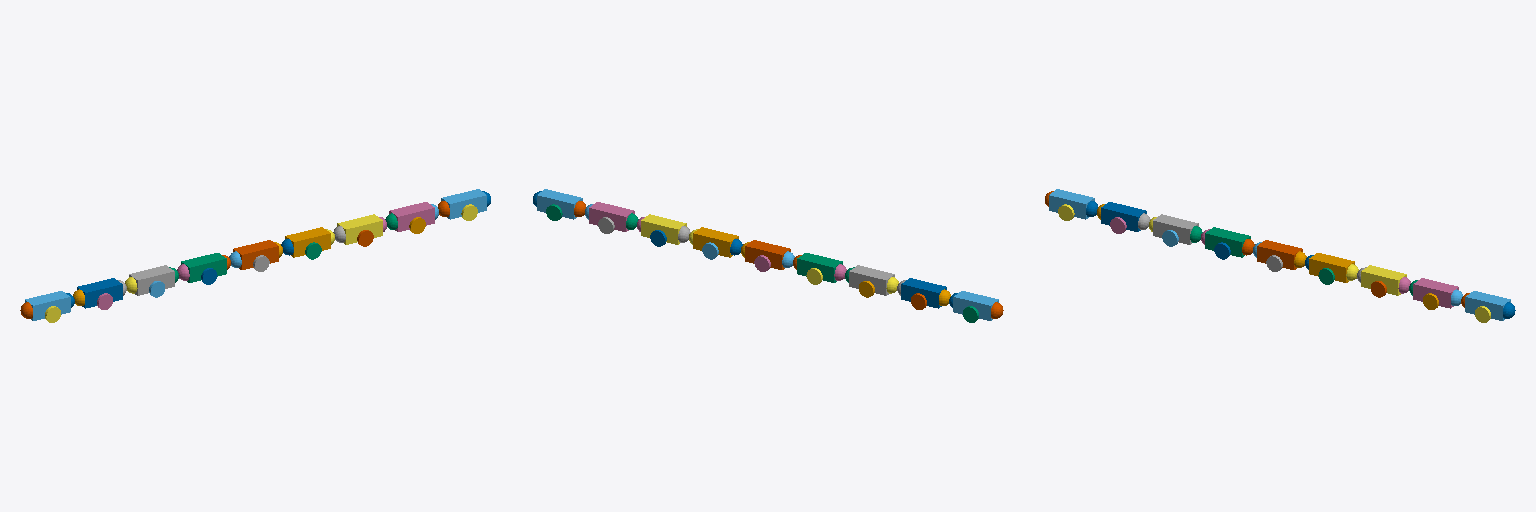
--- Render facts (derived) ---
The picture shows the robot from 3 angles, left to right: view 1: azimuth 30°, elevation 25°; view 2: azimuth 150°, elevation 25°; view 3: azimuth 330°, elevation 25°; orthographic projection.
Robot: snake — 46 links, 45 joints (8 revolute, 18 continuous, 19 fixed); root link base_link; default pose: all joints at 0.
Visible links, largest first — view 1: car_7, car_8, car_6, car_9, car_2, car_4, car_5, car_1, car_3; view 2: car_7, car_8, car_6, car_9, car_2, car_4, car_5, car_1, car_3; view 3: car_3, car_2, car_1, car_4, car_8, car_5, car_6, car_7, car_9.
Link boxes in pixels (x1,y1,x2,y2): car_7: (129,265,174,295); car_8: (77,278,122,308); car_6: (181,253,226,282); car_9: (25,291,70,320); car_2: (389,202,434,231); car_4: (285,227,330,257); car_5: (233,240,278,269); car_1: (441,189,486,219); car_3: (337,214,382,244); car_7: (849,265,894,295); car_8: (901,278,946,308); car_6: (797,253,842,282); car_9: (953,291,998,320); car_2: (589,202,634,231); car_4: (693,227,738,257); car_5: (745,240,790,269); car_1: (537,189,582,219); car_3: (641,214,686,244); car_3: (1361,265,1406,295); car_2: (1413,278,1458,308); car_1: (1465,291,1510,320); car_4: (1309,253,1354,282); car_8: (1101,202,1146,231); car_5: (1257,240,1302,269); car_6: (1205,227,1250,257); car_7: (1153,214,1198,244); car_9: (1049,189,1094,219).
Size in the robot's own frame: 3.15 by 0.144 by 0.13 metres.
Geometry: primitives only (box / cylinder / sphere), no mesh files.

URDF robot description (snake):
<?xml version="1.0" ?>
<!-- =================================================================================== -->
<!-- |    This document was autogenerated by xacro from planar_snake.xacro             | -->
<!-- |    EDITING THIS FILE BY HAND IS NOT RECOMMENDED                                 | -->
<!-- =================================================================================== -->
<robot name="snake" xmlns:xacro="http://www.ros.org/wiki/xacro">
  <gazebo>
    <plugin filename="libgazebo_ros_control.so" name="gazebo_ros_control">
      <robotNamespace>/planar_snake</robotNamespace>
    </plugin>
  </gazebo>
  <!-- Used for fixing robot to Gazebo 'base_link' -->
  <link name="base_link"/>
  <joint name="fixed" type="fixed">
    <parent link="base_link"/>
    <child link="car_1"/>
  </joint>
  <link name="car_1">
    <collision>
      <origin rpy="0 0 0" xyz="-0.175 0 0.08"/>
      <geometry>
        <box size="0.25 0.1 0.1"/>
      </geometry>
    </collision>
    <visual>
      <origin rpy="0 0 0" xyz="-0.175 0 0.08"/>
      <geometry>
        <box size="0.25 0.1 0.1"/>
      </geometry>
    </visual>
    <inertial>
      <origin rpy="0 0 0" xyz="-0.175 0 0.08"/>
      <mass value="1"/>
      <inertia ixx="1.0" ixy="0.0" ixz="0.0" iyy="1.0" iyz="0.0" izz="1.0"/>
    </inertial>
  </link>
  <link name="wheel_left_1">
    <collision>
      <origin rpy="0 1.57079632679 1.57079632679" xyz="0 0 0"/>
      <geometry>
        <cylinder length="0.02" radius="0.05"/>
      </geometry>
    </collision>
    <visual>
      <origin rpy="0 1.57079632679 1.57079632679" xyz="0 0 0"/>
      <geometry>
        <cylinder length="0.02" radius="0.05"/>
      </geometry>
    </visual>
    <inertial>
      <origin rpy="0 1.57079632679 1.57079632679" xyz="0 0 0"/>
      <mass value="1"/>
      <inertia ixx="1.0" ixy="0.0" ixz="0.0" iyy="1.0" iyz="0.0" izz="1.0"/>
    </inertial>
  </link>
  <gazebo reference="wheel_left_1">
    <mu1>1.5</mu1>
    <mu2>1.5</mu2>
  </gazebo>
  <link name="wheel_right_1">
    <collision>
      <origin rpy="0 1.57079632679 1.57079632679" xyz="0 0 0"/>
      <geometry>
        <cylinder length="0.02" radius="0.05"/>
      </geometry>
    </collision>
    <visual>
      <origin rpy="0 1.57079632679 1.57079632679" xyz="0 0 0"/>
      <geometry>
        <cylinder length="0.02" radius="0.05"/>
      </geometry>
    </visual>
    <inertial>
      <origin rpy="0 1.57079632679 1.57079632679" xyz="0 0 0"/>
      <mass value="1"/>
      <inertia ixx="1.0" ixy="0.0" ixz="0.0" iyy="1.0" iyz="0.0" izz="1.0"/>
    </inertial>
  </link>
  <gazebo reference="wheel_right_1">
    <mu1>1.5</mu1>
    <mu2>1.5</mu2>
  </gazebo>
  <link name="caster_front_1">
    <visual>
      <origin rpy="0 0 0" xyz="0 0 0"/>
      <geometry>
        <sphere radius="0.05"/>
      </geometry>
    </visual>
    <inertial>
      <origin rpy="0 0 0" xyz="0 0 0"/>
      <mass value="1"/>
      <inertia ixx="1.0" ixy="0.0" ixz="0.0" iyy="1.0" iyz="0.0" izz="1.0"/>
    </inertial>
  </link>
  <link name="caster_back_1">
    <visual>
      <origin rpy="0 0 0" xyz="0 0 0"/>
      <geometry>
        <sphere radius="0.05"/>
      </geometry>
    </visual>
    <inertial>
      <origin rpy="0 0 0" xyz="0 0 0"/>
      <mass value="1"/>
      <inertia ixx="1.0" ixy="0.0" ixz="0.0" iyy="1.0" iyz="0.0" izz="1.0"/>
    </inertial>
  </link>
  <joint name="leftJoint_1" type="continuous">
    <parent link="car_1"/>
    <child link="wheel_left_1"/>
    <origin rpy="0 0 0" xyz="-0.175 0.062 0.05"/>
    <axis xyz="0 1 0"/>
  </joint>
  <joint name="rightJoint_1" type="continuous">
    <parent link="car_1"/>
    <child link="wheel_right_1"/>
    <origin rpy="0 0 0" xyz="-0.175 -0.062 0.05"/>
    <axis xyz="0 1 0"/>
  </joint>
  <joint name="frontJoint_1" type="fixed">
    <parent link="car_1"/>
    <child link="caster_front_1"/>
    <origin rpy="0 0 0" xyz="-0.05 0 0.08"/>
  </joint>
  <joint name="backJoint_1" type="fixed">
    <parent link="car_1"/>
    <child link="caster_back_1"/>
    <origin rpy="0 0 0" xyz="-0.3 0 0.08"/>
  </joint>
  <link name="car_2">
    <collision>
      <origin rpy="0 0 0" xyz="-0.175 0 0.08"/>
      <geometry>
        <box size="0.25 0.1 0.1"/>
      </geometry>
    </collision>
    <visual>
      <origin rpy="0 0 0" xyz="-0.175 0 0.08"/>
      <geometry>
        <box size="0.25 0.1 0.1"/>
      </geometry>
    </visual>
    <inertial>
      <origin rpy="0 0 0" xyz="-0.175 0 0.08"/>
      <mass value="1"/>
      <inertia ixx="1.0" ixy="0.0" ixz="0.0" iyy="1.0" iyz="0.0" izz="1.0"/>
    </inertial>
  </link>
  <link name="wheel_left_2">
    <collision>
      <origin rpy="0 1.57079632679 1.57079632679" xyz="0 0 0"/>
      <geometry>
        <cylinder length="0.02" radius="0.05"/>
      </geometry>
    </collision>
    <visual>
      <origin rpy="0 1.57079632679 1.57079632679" xyz="0 0 0"/>
      <geometry>
        <cylinder length="0.02" radius="0.05"/>
      </geometry>
    </visual>
    <inertial>
      <origin rpy="0 1.57079632679 1.57079632679" xyz="0 0 0"/>
      <mass value="1"/>
      <inertia ixx="1.0" ixy="0.0" ixz="0.0" iyy="1.0" iyz="0.0" izz="1.0"/>
    </inertial>
  </link>
  <gazebo reference="wheel_left_2">
    <mu1>1.5</mu1>
    <mu2>1.5</mu2>
  </gazebo>
  <link name="wheel_right_2">
    <collision>
      <origin rpy="0 1.57079632679 1.57079632679" xyz="0 0 0"/>
      <geometry>
        <cylinder length="0.02" radius="0.05"/>
      </geometry>
    </collision>
    <visual>
      <origin rpy="0 1.57079632679 1.57079632679" xyz="0 0 0"/>
      <geometry>
        <cylinder length="0.02" radius="0.05"/>
      </geometry>
    </visual>
    <inertial>
      <origin rpy="0 1.57079632679 1.57079632679" xyz="0 0 0"/>
      <mass value="1"/>
      <inertia ixx="1.0" ixy="0.0" ixz="0.0" iyy="1.0" iyz="0.0" izz="1.0"/>
    </inertial>
  </link>
  <gazebo reference="wheel_right_2">
    <mu1>1.5</mu1>
    <mu2>1.5</mu2>
  </gazebo>
  <link name="caster_front_2">
    <visual>
      <origin rpy="0 0 0" xyz="0 0 0"/>
      <geometry>
        <sphere radius="0.05"/>
      </geometry>
    </visual>
    <inertial>
      <origin rpy="0 0 0" xyz="0 0 0"/>
      <mass value="1"/>
      <inertia ixx="1.0" ixy="0.0" ixz="0.0" iyy="1.0" iyz="0.0" izz="1.0"/>
    </inertial>
  </link>
  <link name="caster_back_2">
    <visual>
      <origin rpy="0 0 0" xyz="0 0 0"/>
      <geometry>
        <sphere radius="0.05"/>
      </geometry>
    </visual>
    <inertial>
      <origin rpy="0 0 0" xyz="0 0 0"/>
      <mass value="1"/>
      <inertia ixx="1.0" ixy="0.0" ixz="0.0" iyy="1.0" iyz="0.0" izz="1.0"/>
    </inertial>
  </link>
  <joint name="leftJoint_2" type="continuous">
    <parent link="car_2"/>
    <child link="wheel_left_2"/>
    <origin rpy="0 0 0" xyz="-0.175 0.062 0.05"/>
    <axis xyz="0 1 0"/>
  </joint>
  <joint name="rightJoint_2" type="continuous">
    <parent link="car_2"/>
    <child link="wheel_right_2"/>
    <origin rpy="0 0 0" xyz="-0.175 -0.062 0.05"/>
    <axis xyz="0 1 0"/>
  </joint>
  <joint name="frontJoint_2" type="fixed">
    <parent link="car_2"/>
    <child link="caster_front_2"/>
    <origin rpy="0 0 0" xyz="-0.05 0 0.08"/>
  </joint>
  <joint name="backJoint_2" type="fixed">
    <parent link="car_2"/>
    <child link="caster_back_2"/>
    <origin rpy="0 0 0" xyz="-0.3 0 0.08"/>
  </joint>
  <link name="car_3">
    <collision>
      <origin rpy="0 0 0" xyz="-0.175 0 0.08"/>
      <geometry>
        <box size="0.25 0.1 0.1"/>
      </geometry>
    </collision>
    <visual>
      <origin rpy="0 0 0" xyz="-0.175 0 0.08"/>
      <geometry>
        <box size="0.25 0.1 0.1"/>
      </geometry>
    </visual>
    <inertial>
      <origin rpy="0 0 0" xyz="-0.175 0 0.08"/>
      <mass value="1"/>
      <inertia ixx="1.0" ixy="0.0" ixz="0.0" iyy="1.0" iyz="0.0" izz="1.0"/>
    </inertial>
  </link>
  <link name="wheel_left_3">
    <collision>
      <origin rpy="0 1.57079632679 1.57079632679" xyz="0 0 0"/>
      <geometry>
        <cylinder length="0.02" radius="0.05"/>
      </geometry>
    </collision>
    <visual>
      <origin rpy="0 1.57079632679 1.57079632679" xyz="0 0 0"/>
      <geometry>
        <cylinder length="0.02" radius="0.05"/>
      </geometry>
    </visual>
    <inertial>
      <origin rpy="0 1.57079632679 1.57079632679" xyz="0 0 0"/>
      <mass value="1"/>
      <inertia ixx="1.0" ixy="0.0" ixz="0.0" iyy="1.0" iyz="0.0" izz="1.0"/>
    </inertial>
  </link>
  <gazebo reference="wheel_left_3">
    <mu1>1.5</mu1>
    <mu2>1.5</mu2>
  </gazebo>
  <link name="wheel_right_3">
    <collision>
      <origin rpy="0 1.57079632679 1.57079632679" xyz="0 0 0"/>
      <geometry>
        <cylinder length="0.02" radius="0.05"/>
      </geometry>
    </collision>
    <visual>
      <origin rpy="0 1.57079632679 1.57079632679" xyz="0 0 0"/>
      <geometry>
        <cylinder length="0.02" radius="0.05"/>
      </geometry>
    </visual>
    <inertial>
      <origin rpy="0 1.57079632679 1.57079632679" xyz="0 0 0"/>
      <mass value="1"/>
      <inertia ixx="1.0" ixy="0.0" ixz="0.0" iyy="1.0" iyz="0.0" izz="1.0"/>
    </inertial>
  </link>
  <gazebo reference="wheel_right_3">
    <mu1>1.5</mu1>
    <mu2>1.5</mu2>
  </gazebo>
  <link name="caster_front_3">
    <visual>
      <origin rpy="0 0 0" xyz="0 0 0"/>
      <geometry>
        <sphere radius="0.05"/>
      </geometry>
    </visual>
    <inertial>
      <origin rpy="0 0 0" xyz="0 0 0"/>
      <mass value="1"/>
      <inertia ixx="1.0" ixy="0.0" ixz="0.0" iyy="1.0" iyz="0.0" izz="1.0"/>
    </inertial>
  </link>
  <link name="caster_back_3">
    <visual>
      <origin rpy="0 0 0" xyz="0 0 0"/>
      <geometry>
        <sphere radius="0.05"/>
      </geometry>
    </visual>
    <inertial>
      <origin rpy="0 0 0" xyz="0 0 0"/>
      <mass value="1"/>
      <inertia ixx="1.0" ixy="0.0" ixz="0.0" iyy="1.0" iyz="0.0" izz="1.0"/>
    </inertial>
  </link>
  <joint name="leftJoint_3" type="continuous">
    <parent link="car_3"/>
    <child link="wheel_left_3"/>
    <origin rpy="0 0 0" xyz="-0.175 0.062 0.05"/>
    <axis xyz="0 1 0"/>
  </joint>
  <joint name="rightJoint_3" type="continuous">
    <parent link="car_3"/>
    <child link="wheel_right_3"/>
    <origin rpy="0 0 0" xyz="-0.175 -0.062 0.05"/>
    <axis xyz="0 1 0"/>
  </joint>
  <joint name="frontJoint_3" type="fixed">
    <parent link="car_3"/>
    <child link="caster_front_3"/>
    <origin rpy="0 0 0" xyz="-0.05 0 0.08"/>
  </joint>
  <joint name="backJoint_3" type="fixed">
    <parent link="car_3"/>
    <child link="caster_back_3"/>
    <origin rpy="0 0 0" xyz="-0.3 0 0.08"/>
  </joint>
  <link name="car_4">
    <collision>
      <origin rpy="0 0 0" xyz="-0.175 0 0.08"/>
      <geometry>
        <box size="0.25 0.1 0.1"/>
      </geometry>
    </collision>
    <visual>
      <origin rpy="0 0 0" xyz="-0.175 0 0.08"/>
      <geometry>
        <box size="0.25 0.1 0.1"/>
      </geometry>
    </visual>
    <inertial>
      <origin rpy="0 0 0" xyz="-0.175 0 0.08"/>
      <mass value="1"/>
      <inertia ixx="1.0" ixy="0.0" ixz="0.0" iyy="1.0" iyz="0.0" izz="1.0"/>
    </inertial>
  </link>
  <link name="wheel_left_4">
    <collision>
      <origin rpy="0 1.57079632679 1.57079632679" xyz="0 0 0"/>
      <geometry>
        <cylinder length="0.02" radius="0.05"/>
      </geometry>
    </collision>
    <visual>
      <origin rpy="0 1.57079632679 1.57079632679" xyz="0 0 0"/>
      <geometry>
        <cylinder length="0.02" radius="0.05"/>
      </geometry>
    </visual>
    <inertial>
      <origin rpy="0 1.57079632679 1.57079632679" xyz="0 0 0"/>
      <mass value="1"/>
      <inertia ixx="1.0" ixy="0.0" ixz="0.0" iyy="1.0" iyz="0.0" izz="1.0"/>
    </inertial>
  </link>
  <gazebo reference="wheel_left_4">
    <mu1>1.5</mu1>
    <mu2>1.5</mu2>
  </gazebo>
  <link name="wheel_right_4">
    <collision>
      <origin rpy="0 1.57079632679 1.57079632679" xyz="0 0 0"/>
      <geometry>
        <cylinder length="0.02" radius="0.05"/>
      </geometry>
    </collision>
    <visual>
      <origin rpy="0 1.57079632679 1.57079632679" xyz="0 0 0"/>
      <geometry>
        <cylinder length="0.02" radius="0.05"/>
      </geometry>
    </visual>
    <inertial>
      <origin rpy="0 1.57079632679 1.57079632679" xyz="0 0 0"/>
      <mass value="1"/>
      <inertia ixx="1.0" ixy="0.0" ixz="0.0" iyy="1.0" iyz="0.0" izz="1.0"/>
    </inertial>
  </link>
  <gazebo reference="wheel_right_4">
    <mu1>1.5</mu1>
    <mu2>1.5</mu2>
  </gazebo>
  <link name="caster_front_4">
    <visual>
      <origin rpy="0 0 0" xyz="0 0 0"/>
      <geometry>
        <sphere radius="0.05"/>
      </geometry>
    </visual>
    <inertial>
      <origin rpy="0 0 0" xyz="0 0 0"/>
      <mass value="1"/>
      <inertia ixx="1.0" ixy="0.0" ixz="0.0" iyy="1.0" iyz="0.0" izz="1.0"/>
    </inertial>
  </link>
  <link name="caster_back_4">
    <visual>
      <origin rpy="0 0 0" xyz="0 0 0"/>
      <geometry>
        <sphere radius="0.05"/>
      </geometry>
    </visual>
    <inertial>
      <origin rpy="0 0 0" xyz="0 0 0"/>
      <mass value="1"/>
      <inertia ixx="1.0" ixy="0.0" ixz="0.0" iyy="1.0" iyz="0.0" izz="1.0"/>
    </inertial>
  </link>
  <joint name="leftJoint_4" type="continuous">
    <parent link="car_4"/>
    <child link="wheel_left_4"/>
    <origin rpy="0 0 0" xyz="-0.175 0.062 0.05"/>
    <axis xyz="0 1 0"/>
  </joint>
  <joint name="rightJoint_4" type="continuous">
    <parent link="car_4"/>
    <child link="wheel_right_4"/>
    <origin rpy="0 0 0" xyz="-0.175 -0.062 0.05"/>
    <axis xyz="0 1 0"/>
  </joint>
  <joint name="frontJoint_4" type="fixed">
    <parent link="car_4"/>
    <child link="caster_front_4"/>
    <origin rpy="0 0 0" xyz="-0.05 0 0.08"/>
  </joint>
  <joint name="backJoint_4" type="fixed">
    <parent link="car_4"/>
    <child link="caster_back_4"/>
    <origin rpy="0 0 0" xyz="-0.3 0 0.08"/>
  </joint>
  <link name="car_5">
    <collision>
      <origin rpy="0 0 0" xyz="-0.175 0 0.08"/>
      <geometry>
        <box size="0.25 0.1 0.1"/>
      </geometry>
    </collision>
    <visual>
      <origin rpy="0 0 0" xyz="-0.175 0 0.08"/>
      <geometry>
        <box size="0.25 0.1 0.1"/>
      </geometry>
    </visual>
    <inertial>
      <origin rpy="0 0 0" xyz="-0.175 0 0.08"/>
      <mass value="1"/>
      <inertia ixx="1.0" ixy="0.0" ixz="0.0" iyy="1.0" iyz="0.0" izz="1.0"/>
    </inertial>
  </link>
  <link name="wheel_left_5">
    <collision>
      <origin rpy="0 1.57079632679 1.57079632679" xyz="0 0 0"/>
      <geometry>
        <cylinder length="0.02" radius="0.05"/>
      </geometry>
    </collision>
    <visual>
      <origin rpy="0 1.57079632679 1.57079632679" xyz="0 0 0"/>
      <geometry>
        <cylinder length="0.02" radius="0.05"/>
      </geometry>
    </visual>
    <inertial>
      <origin rpy="0 1.57079632679 1.57079632679" xyz="0 0 0"/>
      <mass value="1"/>
      <inertia ixx="1.0" ixy="0.0" ixz="0.0" iyy="1.0" iyz="0.0" izz="1.0"/>
    </inertial>
  </link>
  <gazebo reference="wheel_left_5">
    <mu1>1.5</mu1>
    <mu2>1.5</mu2>
  </gazebo>
  <link name="wheel_right_5">
    <collision>
      <origin rpy="0 1.57079632679 1.57079632679" xyz="0 0 0"/>
      <geometry>
        <cylinder length="0.02" radius="0.05"/>
      </geometry>
    </collision>
    <visual>
      <origin rpy="0 1.57079632679 1.57079632679" xyz="0 0 0"/>
      <geometry>
        <cylinder length="0.02" radius="0.05"/>
      </geometry>
    </visual>
    <inertial>
      <origin rpy="0 1.57079632679 1.57079632679" xyz="0 0 0"/>
      <mass value="1"/>
      <inertia ixx="1.0" ixy="0.0" ixz="0.0" iyy="1.0" iyz="0.0" izz="1.0"/>
    </inertial>
  </link>
  <gazebo reference="wheel_right_5">
    <mu1>1.5</mu1>
    <mu2>1.5</mu2>
  </gazebo>
  <link name="caster_front_5">
    <visual>
      <origin rpy="0 0 0" xyz="0 0 0"/>
      <geometry>
        <sphere radius="0.05"/>
      </geometry>
    </visual>
    <inertial>
      <origin rpy="0 0 0" xyz="0 0 0"/>
      <mass value="1"/>
      <inertia ixx="1.0" ixy="0.0" ixz="0.0" iyy="1.0" iyz="0.0" izz="1.0"/>
    </inertial>
  </link>
  <link name="caster_back_5">
    <visual>
      <origin rpy="0 0 0" xyz="0 0 0"/>
      <geometry>
        <sphere radius="0.05"/>
      </geometry>
    </visual>
    <inertial>
      <origin rpy="0 0 0" xyz="0 0 0"/>
      <mass value="1"/>
      <inertia ixx="1.0" ixy="0.0" ixz="0.0" iyy="1.0" iyz="0.0" izz="1.0"/>
    </inertial>
  </link>
  <joint name="leftJoint_5" type="continuous">
    <parent link="car_5"/>
    <child link="wheel_left_5"/>
    <origin rpy="0 0 0" xyz="-0.175 0.062 0.05"/>
    <axis xyz="0 1 0"/>
  </joint>
  <joint name="rightJoint_5" type="continuous">
    <parent link="car_5"/>
    <child link="wheel_right_5"/>
    <origin rpy="0 0 0" xyz="-0.175 -0.062 0.05"/>
    <axis xyz="0 1 0"/>
  </joint>
  <joint name="frontJoint_5" type="fixed">
    <parent link="car_5"/>
    <child link="caster_front_5"/>
    <origin rpy="0 0 0" xyz="-0.05 0 0.08"/>
  </joint>
  <joint name="backJoint_5" type="fixed">
    <parent link="car_5"/>
    <child link="caster_back_5"/>
    <origin rpy="0 0 0" xyz="-0.3 0 0.08"/>
  </joint>
  <link name="car_6">
    <collision>
      <origin rpy="0 0 0" xyz="-0.175 0 0.08"/>
      <geometry>
        <box size="0.25 0.1 0.1"/>
      </geometry>
    </collision>
    <visual>
      <origin rpy="0 0 0" xyz="-0.175 0 0.08"/>
      <geometry>
        <box size="0.25 0.1 0.1"/>
      </geometry>
    </visual>
    <inertial>
      <origin rpy="0 0 0" xyz="-0.175 0 0.08"/>
      <mass value="1"/>
      <inertia ixx="1.0" ixy="0.0" ixz="0.0" iyy="1.0" iyz="0.0" izz="1.0"/>
    </inertial>
  </link>
  <link name="wheel_left_6">
    <collision>
      <origin rpy="0 1.57079632679 1.57079632679" xyz="0 0 0"/>
      <geometry>
        <cylinder length="0.02" radius="0.05"/>
      </geometry>
    </collision>
    <visual>
      <origin rpy="0 1.57079632679 1.57079632679" xyz="0 0 0"/>
      <geometry>
        <cylinder length="0.02" radius="0.05"/>
      </geometry>
    </visual>
    <inertial>
      <origin rpy="0 1.57079632679 1.57079632679" xyz="0 0 0"/>
      <mass value="1"/>
      <inertia ixx="1.0" ixy="0.0" ixz="0.0" iyy="1.0" iyz="0.0" izz="1.0"/>
    </inertial>
  </link>
  <gazebo reference="wheel_left_6">
    <mu1>1.5</mu1>
    <mu2>1.5</mu2>
  </gazebo>
  <link name="wheel_right_6">
    <collision>
      <origin rpy="0 1.57079632679 1.57079632679" xyz="0 0 0"/>
      <geometry>
        <cylinder length="0.02" radius="0.05"/>
      </geometry>
    </collision>
    <visual>
      <origin rpy="0 1.57079632679 1.57079632679" xyz="0 0 0"/>
      <geometry>
        <cylinder length="0.02" radius="0.05"/>
      </geometry>
    </visual>
    <inertial>
      <origin rpy="0 1.57079632679 1.57079632679" xyz="0 0 0"/>
      <mass value="1"/>
      <inertia ixx="1.0" ixy="0.0" ixz="0.0" iyy="1.0" iyz="0.0" izz="1.0"/>
    </inertial>
  </link>
  <gazebo reference="wheel_right_6">
    <mu1>1.5</mu1>
    <mu2>1.5</mu2>
  </gazebo>
  <link name="caster_front_6">
    <visual>
      <origin rpy="0 0 0" xyz="0 0 0"/>
      <geometry>
        <sphere radius="0.05"/>
      </geometry>
    </visual>
    <inertial>
      <origin rpy="0 0 0" xyz="0 0 0"/>
      <mass value="1"/>
      <inertia ixx="1.0" ixy="0.0" ixz="0.0" iyy="1.0" iyz="0.0" izz="1.0"/>
    </inertial>
  </link>
  <link name="caster_back_6">
    <visual>
      <origin rpy="0 0 0" xyz="0 0 0"/>
      <geometry>
        <sphere radius="0.05"/>
      </geometry>
    </visual>
    <inertial>
      <origin rpy="0 0 0" xyz="0 0 0"/>
      <mass value="1"/>
      <inertia ixx="1.0" ixy="0.0" ixz="0.0" iyy="1.0" iyz="0.0" izz="1.0"/>
    </inertial>
  </link>
  <joint name="leftJoint_6" type="continuous">
    <parent link="car_6"/>
    <child link="wheel_left_6"/>
    <origin rpy="0 0 0" xyz="-0.175 0.062 0.05"/>
    <axis xyz="0 1 0"/>
  </joint>
  <joint name="rightJoint_6" type="continuous">
    <parent link="car_6"/>
    <child link="wheel_right_6"/>
    <origin rpy="0 0 0" xyz="-0.175 -0.062 0.05"/>
    <axis xyz="0 1 0"/>
  </joint>
  <joint name="frontJoint_6" type="fixed">
    <parent link="car_6"/>
    <child link="caster_front_6"/>
    <origin rpy="0 0 0" xyz="-0.05 0 0.08"/>
  </joint>
  <joint name="backJoint_6" type="fixed">
    <parent link="car_6"/>
    <child link="caster_back_6"/>
    <origin rpy="0 0 0" xyz="-0.3 0 0.08"/>
  </joint>
  <link name="car_7">
    <collision>
      <origin rpy="0 0 0" xyz="-0.175 0 0.08"/>
      <geometry>
        <box size="0.25 0.1 0.1"/>
      </geometry>
    </collision>
    <visual>
      <origin rpy="0 0 0" xyz="-0.175 0 0.08"/>
      <geometry>
        <box size="0.25 0.1 0.1"/>
      </geometry>
    </visual>
    <inertial>
      <origin rpy="0 0 0" xyz="-0.175 0 0.08"/>
      <mass value="1"/>
      <inertia ixx="1.0" ixy="0.0" ixz="0.0" iyy="1.0" iyz="0.0" izz="1.0"/>
    </inertial>
  </link>
  <link name="wheel_left_7">
    <collision>
      <origin rpy="0 1.57079632679 1.57079632679" xyz="0 0 0"/>
      <geometry>
        <cylinder length="0.02" radius="0.05"/>
      </geometry>
    </collision>
    <visual>
      <origin rpy="0 1.57079632679 1.57079632679" xyz="0 0 0"/>
      <geometry>
        <cylinder length="0.02" radius="0.05"/>
      </geometry>
    </visual>
    <inertial>
      <origin rpy="0 1.57079632679 1.57079632679" xyz="0 0 0"/>
      <mass value="1"/>
      <inertia ixx="1.0" ixy="0.0" ixz="0.0" iyy="1.0" iyz="0.0" izz="1.0"/>
    </inertial>
  </link>
  <gazebo reference="wheel_left_7">
    <mu1>1.5</mu1>
    <mu2>1.5</mu2>
  </gazebo>
  <link name="wheel_right_7">
    <collision>
      <origin rpy="0 1.57079632679 1.57079632679" xyz="0 0 0"/>
      <geometry>
        <cylinder length="0.02" radius="0.05"/>
      </geometry>
    </collision>
    <visual>
      <origin rpy="0 1.57079632679 1.57079632679" xyz="0 0 0"/>
      <geometry>
        <cylinder length="0.02" radius="0.05"/>
      </geometry>
    </visual>
    <inertial>
      <origin rpy="0 1.57079632679 1.57079632679" xyz="0 0 0"/>
      <mass value="1"/>
      <inertia ixx="1.0" ixy="0.0" ixz="0.0" iyy="1.0" iyz="0.0" izz="1.0"/>
    </inertial>
  </link>
  <gazebo reference="wheel_right_7">
    <mu1>1.5</mu1>
    <mu2>1.5</mu2>
  </gazebo>
  <link name="caster_front_7">
    <visual>
      <origin rpy="0 0 0" xyz="0 0 0"/>
      <geometry>
        <sphere radius="0.05"/>
      </geometry>
    </visual>
    <inertial>
      <origin rpy="0 0 0" xyz="0 0 0"/>
      <mass value="1"/>
      <inertia ixx="1.0" ixy="0.0" ixz="0.0" iyy="1.0" iyz="0.0" izz="1.0"/>
    </inertial>
  </link>
  <link name="caster_back_7">
    <visual>
      <origin rpy="0 0 0" xyz="0 0 0"/>
      <geometry>
        <sphere radius="0.05"/>
      </geometry>
    </visual>
    <inertial>
      <origin rpy="0 0 0" xyz="0 0 0"/>
      <mass value="1"/>
      <inertia ixx="1.0" ixy="0.0" ixz="0.0" iyy="1.0" iyz="0.0" izz="1.0"/>
    </inertial>
  </link>
  <joint name="leftJoint_7" type="continuous">
    <parent link="car_7"/>
    <child link="wheel_left_7"/>
    <origin rpy="0 0 0" xyz="-0.175 0.062 0.05"/>
    <axis xyz="0 1 0"/>
  </joint>
  <joint name="rightJoint_7" type="continuous">
    <parent link="car_7"/>
    <child link="wheel_right_7"/>
    <origin rpy="0 0 0" xyz="-0.175 -0.062 0.05"/>
    <axis xyz="0 1 0"/>
  </joint>
  <joint name="frontJoint_7" type="fixed">
    <parent link="car_7"/>
    <child link="caster_front_7"/>
    <origin rpy="0 0 0" xyz="-0.05 0 0.08"/>
  </joint>
  <joint name="backJoint_7" type="fixed">
    <parent link="car_7"/>
    <child link="caster_back_7"/>
    <origin rpy="0 0 0" xyz="-0.3 0 0.08"/>
  </joint>
  <link name="car_8">
    <collision>
      <origin rpy="0 0 0" xyz="-0.175 0 0.08"/>
      <geometry>
        <box size="0.25 0.1 0.1"/>
      </geometry>
    </collision>
    <visual>
      <origin rpy="0 0 0" xyz="-0.175 0 0.08"/>
      <geometry>
        <box size="0.25 0.1 0.1"/>
      </geometry>
    </visual>
    <inertial>
      <origin rpy="0 0 0" xyz="-0.175 0 0.08"/>
      <mass value="1"/>
      <inertia ixx="1.0" ixy="0.0" ixz="0.0" iyy="1.0" iyz="0.0" izz="1.0"/>
    </inertial>
  </link>
  <link name="wheel_left_8">
    <collision>
      <origin rpy="0 1.57079632679 1.57079632679" xyz="0 0 0"/>
      <geometry>
        <cylinder length="0.02" radius="0.05"/>
      </geometry>
    </collision>
    <visual>
      <origin rpy="0 1.57079632679 1.57079632679" xyz="0 0 0"/>
      <geometry>
        <cylinder length="0.02" radius="0.05"/>
      </geometry>
    </visual>
    <inertial>
      <origin rpy="0 1.57079632679 1.57079632679" xyz="0 0 0"/>
      <mass value="1"/>
      <inertia ixx="1.0" ixy="0.0" ixz="0.0" iyy="1.0" iyz="0.0" izz="1.0"/>
    </inertial>
  </link>
  <gazebo reference="wheel_left_8">
    <mu1>1.5</mu1>
    <mu2>1.5</mu2>
  </gazebo>
  <link name="wheel_right_8">
    <collision>
      <origin rpy="0 1.57079632679 1.57079632679" xyz="0 0 0"/>
      <geometry>
        <cylinder length="0.02" radius="0.05"/>
      </geometry>
    </collision>
    <visual>
      <origin rpy="0 1.57079632679 1.57079632679" xyz="0 0 0"/>
      <geometry>
        <cylinder length="0.02" radius="0.05"/>
      </geometry>
    </visual>
    <inertial>
      <origin rpy="0 1.57079632679 1.57079632679" xyz="0 0 0"/>
      <mass value="1"/>
      <inertia ixx="1.0" ixy="0.0" ixz="0.0" iyy="1.0" iyz="0.0" izz="1.0"/>
    </inertial>
  </link>
  <gazebo reference="wheel_right_8">
    <mu1>1.5</mu1>
    <mu2>1.5</mu2>
  </gazebo>
  <link name="caster_front_8">
    <visual>
      <origin rpy="0 0 0" xyz="0 0 0"/>
      <geometry>
        <sphere radius="0.05"/>
      </geometry>
    </visual>
    <inertial>
      <origin rpy="0 0 0" xyz="0 0 0"/>
      <mass value="1"/>
      <inertia ixx="1.0" ixy="0.0" ixz="0.0" iyy="1.0" iyz="0.0" izz="1.0"/>
    </inertial>
  </link>
  <link name="caster_back_8">
    <visual>
      <origin rpy="0 0 0" xyz="0 0 0"/>
      <geometry>
        <sphere radius="0.05"/>
      </geometry>
    </visual>
    <inertial>
      <origin rpy="0 0 0" xyz="0 0 0"/>
      <mass value="1"/>
      <inertia ixx="1.0" ixy="0.0" ixz="0.0" iyy="1.0" iyz="0.0" izz="1.0"/>
    </inertial>
  </link>
  <joint name="leftJoint_8" type="continuous">
    <parent link="car_8"/>
    <child link="wheel_left_8"/>
    <origin rpy="0 0 0" xyz="-0.175 0.062 0.05"/>
    <axis xyz="0 1 0"/>
  </joint>
  <joint name="rightJoint_8" type="continuous">
    <parent link="car_8"/>
    <child link="wheel_right_8"/>
    <origin rpy="0 0 0" xyz="-0.175 -0.062 0.05"/>
    <axis xyz="0 1 0"/>
  </joint>
  <joint name="frontJoint_8" type="fixed">
    <parent link="car_8"/>
    <child link="caster_front_8"/>
    <origin rpy="0 0 0" xyz="-0.05 0 0.08"/>
  </joint>
  <joint name="backJoint_8" type="fixed">
    <parent link="car_8"/>
    <child link="caster_back_8"/>
    <origin rpy="0 0 0" xyz="-0.3 0 0.08"/>
  </joint>
  <link name="car_9">
    <collision>
      <origin rpy="0 0 0" xyz="-0.175 0 0.08"/>
      <geometry>
        <box size="0.25 0.1 0.1"/>
      </geometry>
    </collision>
    <visual>
      <origin rpy="0 0 0" xyz="-0.175 0 0.08"/>
      <geometry>
        <box size="0.25 0.1 0.1"/>
      </geometry>
    </visual>
    <inertial>
      <origin rpy="0 0 0" xyz="-0.175 0 0.08"/>
      <mass value="1"/>
      <inertia ixx="1.0" ixy="0.0" ixz="0.0" iyy="1.0" iyz="0.0" izz="1.0"/>
    </inertial>
  </link>
  <link name="wheel_left_9">
    <collision>
      <origin rpy="0 1.57079632679 1.57079632679" xyz="0 0 0"/>
      <geometry>
        <cylinder length="0.02" radius="0.05"/>
      </geometry>
    </collision>
    <visual>
      <origin rpy="0 1.57079632679 1.57079632679" xyz="0 0 0"/>
      <geometry>
        <cylinder length="0.02" radius="0.05"/>
      </geometry>
    </visual>
    <inertial>
      <origin rpy="0 1.57079632679 1.57079632679" xyz="0 0 0"/>
      <mass value="1"/>
      <inertia ixx="1.0" ixy="0.0" ixz="0.0" iyy="1.0" iyz="0.0" izz="1.0"/>
    </inertial>
  </link>
  <gazebo reference="wheel_left_9">
    <mu1>1.5</mu1>
    <mu2>1.5</mu2>
  </gazebo>
  <link name="wheel_right_9">
    <collision>
      <origin rpy="0 1.57079632679 1.57079632679" xyz="0 0 0"/>
      <geometry>
        <cylinder length="0.02" radius="0.05"/>
      </geometry>
    </collision>
    <visual>
      <origin rpy="0 1.57079632679 1.57079632679" xyz="0 0 0"/>
      <geometry>
        <cylinder length="0.02" radius="0.05"/>
      </geometry>
    </visual>
    <inertial>
      <origin rpy="0 1.57079632679 1.57079632679" xyz="0 0 0"/>
      <mass value="1"/>
      <inertia ixx="1.0" ixy="0.0" ixz="0.0" iyy="1.0" iyz="0.0" izz="1.0"/>
    </inertial>
  </link>
  <gazebo reference="wheel_right_9">
    <mu1>1.5</mu1>
    <mu2>1.5</mu2>
  </gazebo>
  <link name="caster_front_9">
    <visual>
      <origin rpy="0 0 0" xyz="0 0 0"/>
      <geometry>
        <sphere radius="0.05"/>
      </geometry>
    </visual>
    <inertial>
      <origin rpy="0 0 0" xyz="0 0 0"/>
      <mass value="1"/>
      <inertia ixx="1.0" ixy="0.0" ixz="0.0" iyy="1.0" iyz="0.0" izz="1.0"/>
    </inertial>
  </link>
  <link name="caster_back_9">
    <visual>
      <origin rpy="0 0 0" xyz="0 0 0"/>
      <geometry>
        <sphere radius="0.05"/>
      </geometry>
    </visual>
    <inertial>
      <origin rpy="0 0 0" xyz="0 0 0"/>
      <mass value="1"/>
      <inertia ixx="1.0" ixy="0.0" ixz="0.0" iyy="1.0" iyz="0.0" izz="1.0"/>
    </inertial>
  </link>
  <joint name="leftJoint_9" type="continuous">
    <parent link="car_9"/>
    <child link="wheel_left_9"/>
    <origin rpy="0 0 0" xyz="-0.175 0.062 0.05"/>
    <axis xyz="0 1 0"/>
  </joint>
  <joint name="rightJoint_9" type="continuous">
    <parent link="car_9"/>
    <child link="wheel_right_9"/>
    <origin rpy="0 0 0" xyz="-0.175 -0.062 0.05"/>
    <axis xyz="0 1 0"/>
  </joint>
  <joint name="frontJoint_9" type="fixed">
    <parent link="car_9"/>
    <child link="caster_front_9"/>
    <origin rpy="0 0 0" xyz="-0.05 0 0.08"/>
  </joint>
  <joint name="backJoint_9" type="fixed">
    <parent link="car_9"/>
    <child link="caster_back_9"/>
    <origin rpy="0 0 0" xyz="-0.3 0 0.08"/>
  </joint>
  <joint name="joint_1" type="revolute">
    <parent link="car_1"/>
    <child link="car_2"/>
    <origin rpy="0 0 0" xyz="-0.35 0 0"/>
    <limit effort="1000.0" lower="-1.57079632679" upper="1.57079632679" velocity="50"/>
    <axis xyz="0 0 1"/>
  </joint>
  <transmission name="trans_1">
    <type>transmission_interface/SimpleTransmission</type>
    <joint name="joint_1">
      <hardwareInterface>hardware_interface/EffortJointInterface</hardwareInterface>
    </joint>
    <actuator name="motor_1">
      <hardwareInterface>hardware_interface/EffortJointInterface</hardwareInterface>
      <mechanicalReduction>1</mechanicalReduction>
    </actuator>
  </transmission>
  <joint name="joint_2" type="revolute">
    <parent link="car_2"/>
    <child link="car_3"/>
    <origin rpy="0 0 0" xyz="-0.35 0 0"/>
    <limit effort="1000.0" lower="-1.57079632679" upper="1.57079632679" velocity="50"/>
    <axis xyz="0 0 1"/>
  </joint>
  <transmission name="trans_2">
    <type>transmission_interface/SimpleTransmission</type>
    <joint name="joint_2">
      <hardwareInterface>hardware_interface/EffortJointInterface</hardwareInterface>
    </joint>
    <actuator name="motor_2">
      <hardwareInterface>hardware_interface/EffortJointInterface</hardwareInterface>
      <mechanicalReduction>1</mechanicalReduction>
    </actuator>
  </transmission>
  <joint name="joint_3" type="revolute">
    <parent link="car_3"/>
    <child link="car_4"/>
    <origin rpy="0 0 0" xyz="-0.35 0 0"/>
    <limit effort="1000.0" lower="-1.57079632679" upper="1.57079632679" velocity="50"/>
    <axis xyz="0 0 1"/>
  </joint>
  <transmission name="trans_3">
    <type>transmission_interface/SimpleTransmission</type>
    <joint name="joint_3">
      <hardwareInterface>hardware_interface/EffortJointInterface</hardwareInterface>
    </joint>
    <actuator name="motor_3">
      <hardwareInterface>hardware_interface/EffortJointInterface</hardwareInterface>
      <mechanicalReduction>1</mechanicalReduction>
    </actuator>
  </transmission>
  <joint name="joint_4" type="revolute">
    <parent link="car_4"/>
    <child link="car_5"/>
    <origin rpy="0 0 0" xyz="-0.35 0 0"/>
    <limit effort="1000.0" lower="-1.57079632679" upper="1.57079632679" velocity="50"/>
    <axis xyz="0 0 1"/>
  </joint>
  <transmission name="trans_4">
    <type>transmission_interface/SimpleTransmission</type>
    <joint name="joint_4">
      <hardwareInterface>hardware_interface/EffortJointInterface</hardwareInterface>
    </joint>
    <actuator name="motor_4">
      <hardwareInterface>hardware_interface/EffortJointInterface</hardwareInterface>
      <mechanicalReduction>1</mechanicalReduction>
    </actuator>
  </transmission>
  <joint name="joint_5" type="revolute">
    <parent link="car_5"/>
    <child link="car_6"/>
    <origin rpy="0 0 0" xyz="-0.35 0 0"/>
    <limit effort="1000.0" lower="-1.57079632679" upper="1.57079632679" velocity="50"/>
    <axis xyz="0 0 1"/>
  </joint>
  <transmission name="trans_5">
    <type>transmission_interface/SimpleTransmission</type>
    <joint name="joint_5">
      <hardwareInterface>hardware_interface/EffortJointInterface</hardwareInterface>
    </joint>
    <actuator name="motor_5">
      <hardwareInterface>hardware_interface/EffortJointInterface</hardwareInterface>
      <mechanicalReduction>1</mechanicalReduction>
    </actuator>
  </transmission>
  <joint name="joint_6" type="revolute">
    <parent link="car_6"/>
    <child link="car_7"/>
    <origin rpy="0 0 0" xyz="-0.35 0 0"/>
    <limit effort="1000.0" lower="-1.57079632679" upper="1.57079632679" velocity="50"/>
    <axis xyz="0 0 1"/>
  </joint>
  <transmission name="trans_6">
    <type>transmission_interface/SimpleTransmission</type>
    <joint name="joint_6">
      <hardwareInterface>hardware_interface/EffortJointInterface</hardwareInterface>
    </joint>
    <actuator name="motor_6">
      <hardwareInterface>hardware_interface/EffortJointInterface</hardwareInterface>
      <mechanicalReduction>1</mechanicalReduction>
    </actuator>
  </transmission>
  <joint name="joint_7" type="revolute">
    <parent link="car_7"/>
    <child link="car_8"/>
    <origin rpy="0 0 0" xyz="-0.35 0 0"/>
    <limit effort="1000.0" lower="-1.57079632679" upper="1.57079632679" velocity="50"/>
    <axis xyz="0 0 1"/>
  </joint>
  <transmission name="trans_7">
    <type>transmission_interface/SimpleTransmission</type>
    <joint name="joint_7">
      <hardwareInterface>hardware_interface/EffortJointInterface</hardwareInterface>
    </joint>
    <actuator name="motor_7">
      <hardwareInterface>hardware_interface/EffortJointInterface</hardwareInterface>
      <mechanicalReduction>1</mechanicalReduction>
    </actuator>
  </transmission>
  <joint name="joint_8" type="revolute">
    <parent link="car_8"/>
    <child link="car_9"/>
    <origin rpy="0 0 0" xyz="-0.35 0 0"/>
    <limit effort="1000.0" lower="-1.57079632679" upper="1.57079632679" velocity="50"/>
    <axis xyz="0 0 1"/>
  </joint>
  <transmission name="trans_8">
    <type>transmission_interface/SimpleTransmission</type>
    <joint name="joint_8">
      <hardwareInterface>hardware_interface/EffortJointInterface</hardwareInterface>
    </joint>
    <actuator name="motor_8">
      <hardwareInterface>hardware_interface/EffortJointInterface</hardwareInterface>
      <mechanicalReduction>1</mechanicalReduction>
    </actuator>
  </transmission>
</robot>
